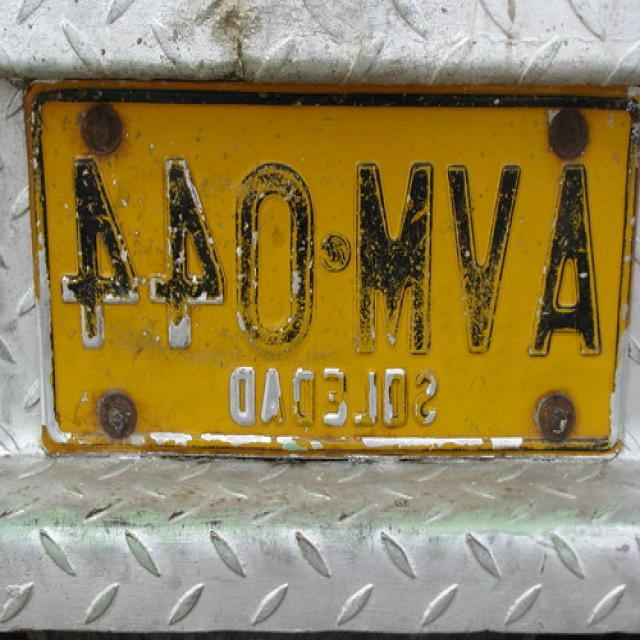placas: (43, 145, 624, 371)
